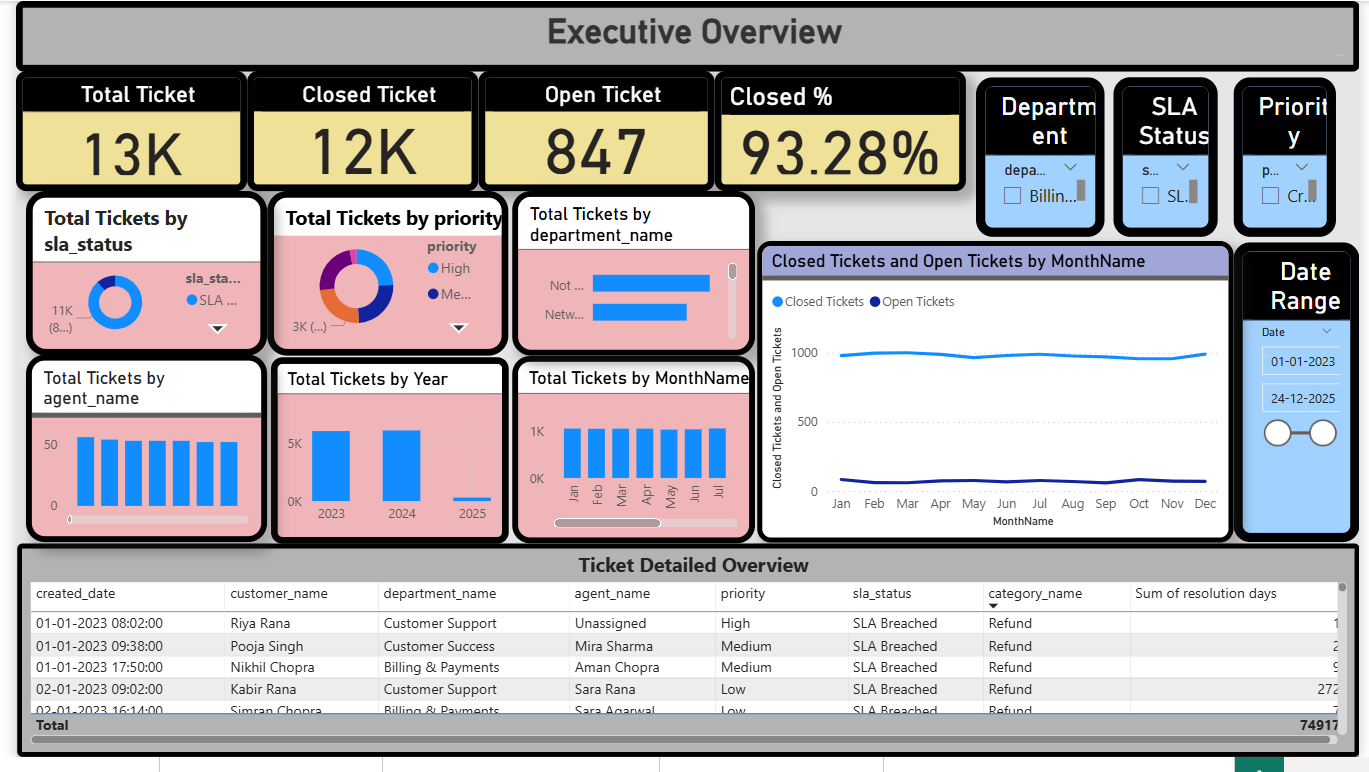

The dashboard page shown, as its layout file describes it:
{"tool":"powerbi","page":{"name":"Executive Overview","canvas":[1280,720],"ordinal":0},"visuals":[{"type":"card","title":"Total Ticket","fields":{"Values":["all_measures.Total Tickets"]},"box":[0,66.7,220.2,114.3],"z":0},{"type":"card","title":"Closed Ticket","fields":{"Values":["all_measures.Closed Tickets"]},"box":[220.2,66.7,220.2,114.3],"z":1000},{"type":"card","title":"Open Ticket","fields":{"Values":["all_measures.Open Tickets"]},"box":[440.5,66.7,225,114.3],"z":2000},{"type":"card","title":"Closed %","fields":{"Values":["all_measures.Closed %"]},"box":[665.5,66.7,239.3,114.3],"z":3000},{"type":"slicer","title":"Date Range","fields":{"Values":["DateTable.Date"]},"box":[1159.5,229.8,120.2,285.7],"z":4000},{"type":"actionButton","box":[0,0,100,40],"z":5000},{"type":"slicer","title":"Priority","fields":{"Values":["tickets.priority"]},"box":[1159.5,72.6,97.6,152.4],"z":6000},{"type":"slicer","title":"Department","fields":{"Values":["departments.department_name"]},"box":[914.3,72.6,122.6,152.4],"z":7000},{"type":"slicer","title":"SLA Status","fields":{"Values":["tickets.sla_status"]},"box":[1045.2,72.6,98.8,152.4],"z":8000},{"type":"clusteredColumnChart","fields":{"Category":["tickets.Year"],"Y":["all_measures.Total Tickets"]},"box":[242.9,339.3,226.2,177.4],"z":9000},{"type":"clusteredColumnChart","fields":{"Category":["DateTable.MonthName"],"Y":["all_measures.Total Tickets"]},"box":[472.6,338.1,231,178.6],"z":10000},{"type":"donutChart","fields":{"Category":["tickets.priority"],"Y":["all_measures.Total Tickets"]},"box":[239.3,181,229.8,157.1],"z":11000},{"type":"donutChart","fields":{"Category":["tickets.sla_status"],"Y":["all_measures.Total Tickets"]},"box":[9.5,181,229.8,157.1],"z":12000},{"type":"clusteredBarChart","fields":{"Y":["all_measures.Total Tickets"],"Category":["departments.department_name"]},"box":[472.6,181,231,157.1],"z":13000},{"type":"lineChart","fields":{"Category":["DateTable.MonthName"],"Y":["all_measures.Closed Tickets","all_measures.Open Tickets"]},"box":[706,228.6,453.6,286.9],"z":14000},{"type":"tableEx","title":"Ticket Detailed Overview","fields":{"Values":["tickets.created_date","customers.customer_name","departments.department_name","tickets.agents.agent_name","tickets.priority","tickets.sla_status","ticket_category.category_name","Sum(tickets.resolution days)"]},"box":[1.2,516.7,1278.6,203.6],"z":15000},{"type":"clusteredColumnChart","fields":{"Category":["agents.agent_name"],"Y":["all_measures.Total Tickets"]},"box":[9.5,336.9,229.8,178.6],"z":16000},{"type":"textbox","title":"Executive Overview","box":[0,0,1280,67.1],"z":17000}]}

Visuals, with their boxes in screenshot pixels (x1, y1, x2, y2), scaled from the page's 1280x720 canvas onto the 1369x772 screenshot:
"Total Ticket" card: <bbox>0, 72, 236, 194</bbox>
"Closed Ticket" card: <bbox>236, 72, 471, 194</bbox>
"Open Ticket" card: <bbox>471, 72, 712, 194</bbox>
"Closed %" card: <bbox>712, 72, 968, 194</bbox>
"Date Range" slicer: <bbox>1240, 246, 1368, 553</bbox>
actionButton: <bbox>0, 0, 107, 43</bbox>
"Priority" slicer: <bbox>1240, 78, 1345, 241</bbox>
"Department" slicer: <bbox>978, 78, 1109, 241</bbox>
"SLA Status" slicer: <bbox>1118, 78, 1224, 241</bbox>
clusteredColumnChart - tickets.Year x all_measures.Total Tickets: <bbox>260, 364, 502, 554</bbox>
clusteredColumnChart - DateTable.MonthName x all_measures.Total Tickets: <bbox>505, 363, 753, 554</bbox>
donutChart - tickets.priority x all_measures.Total Tickets: <bbox>256, 194, 502, 363</bbox>
donutChart - tickets.sla_status x all_measures.Total Tickets: <bbox>10, 194, 256, 363</bbox>
clusteredBarChart - all_measures.Total Tickets x departments.department_name: <bbox>505, 194, 753, 363</bbox>
lineChart - DateTable.MonthName x all_measures.Closed Tickets: <bbox>755, 245, 1240, 553</bbox>
"Ticket Detailed Overview" tableEx: <bbox>1, 554, 1368, 771</bbox>
clusteredColumnChart - agents.agent_name x all_measures.Total Tickets: <bbox>10, 361, 256, 553</bbox>
"Executive Overview" textbox: <bbox>0, 0, 1368, 72</bbox>
